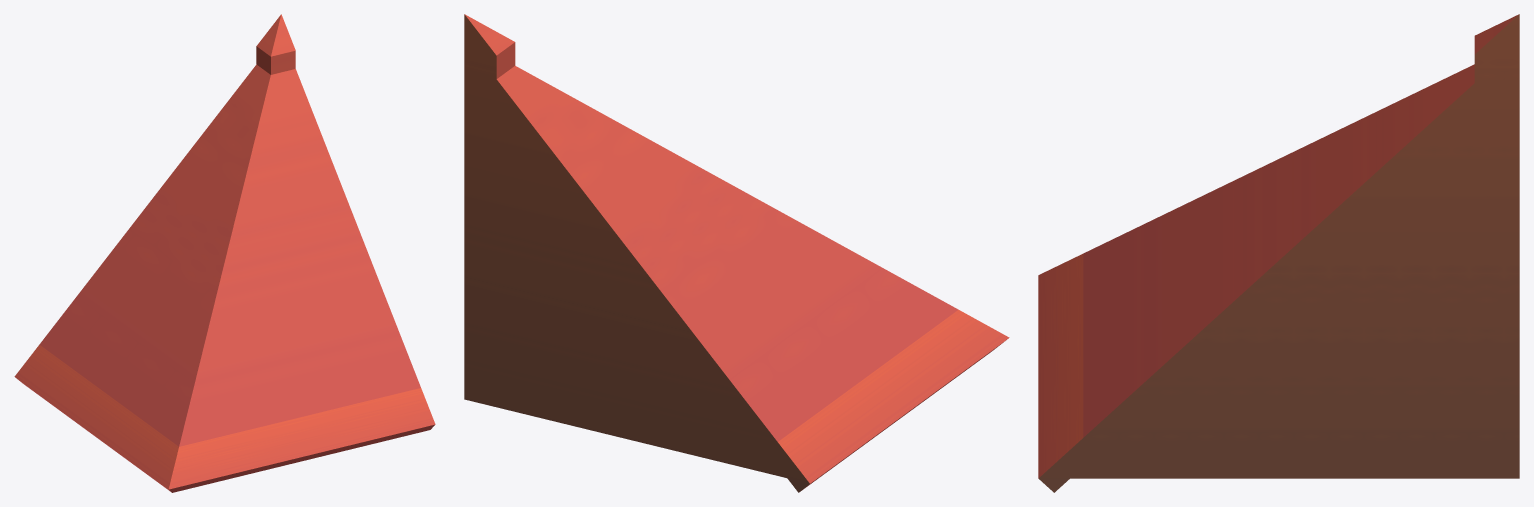
File: roofHighCorner.fbx
The picture shows the model from 3 angles, left to right: view 1: azimuth 30°, elevation 25°; view 2: azimuth 150°, elevation 25°; view 3: azimuth 270°, elevation 25°; orthographic projection. The views are drawn at different scales.
Visible parts, largest first — view 1: roofHighCorner; view 2: roofHighCorner; view 3: roofHighCorner.
Part boxes in pixels (x1,y1,x2,y2): roofHighCorner: [14, 14, 435, 492]; roofHighCorner: [464, 14, 1009, 492]; roofHighCorner: [1038, 14, 1519, 492].
Size of the model in its own units: 1.07 by 1.07 by 1.18.
